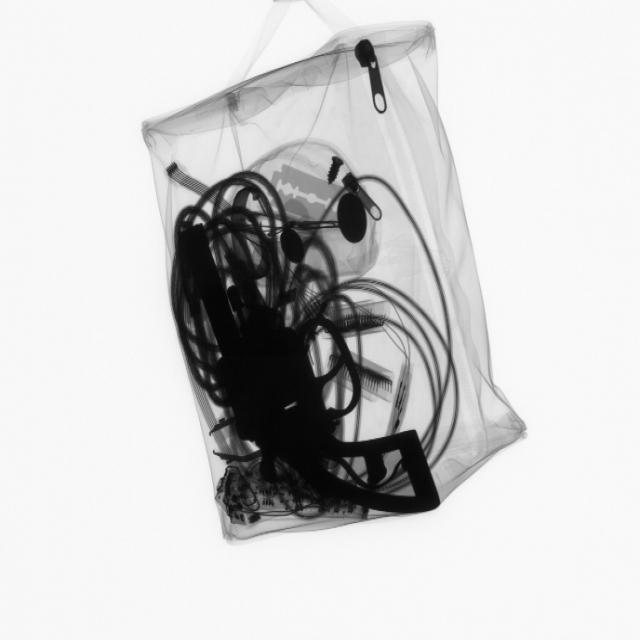BLADE: (274, 157, 357, 235)
GUN: (201, 240, 449, 526)
